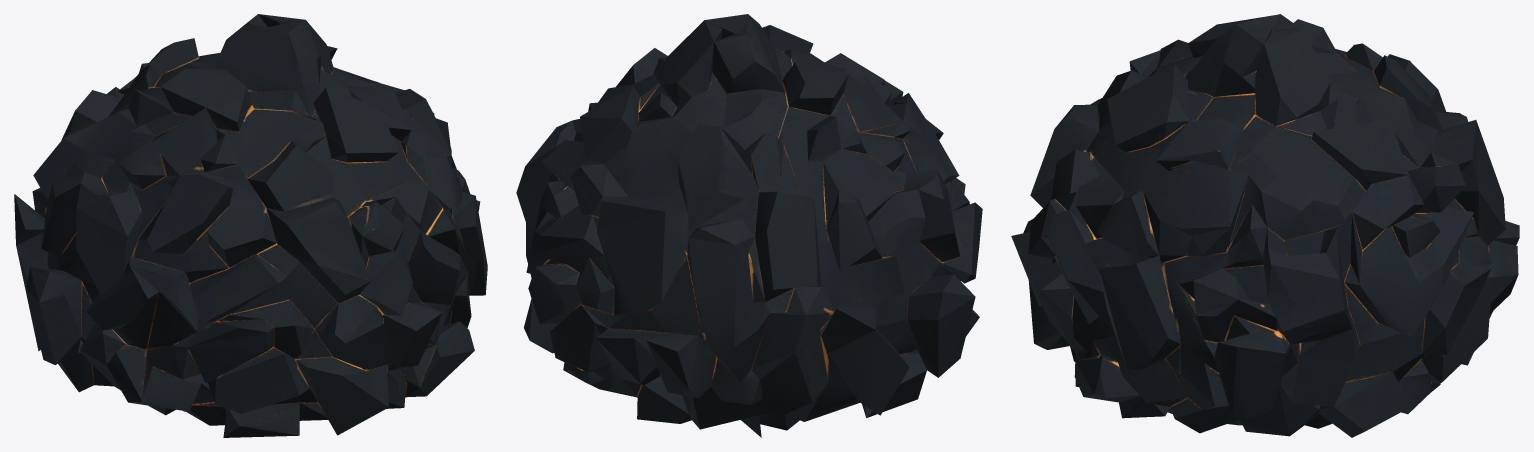
Rendered from slag_rock.glb.
The picture shows the model from 3 angles, left to right: view 1: azimuth 30°, elevation 25°; view 2: azimuth 150°, elevation 25°; view 3: azimuth 270°, elevation 25°; orthographic projection. The views are drawn at different scales.
Size of the model in its own units: 3.02 by 2.2 by 2.95.
1 material, 1 textured.
